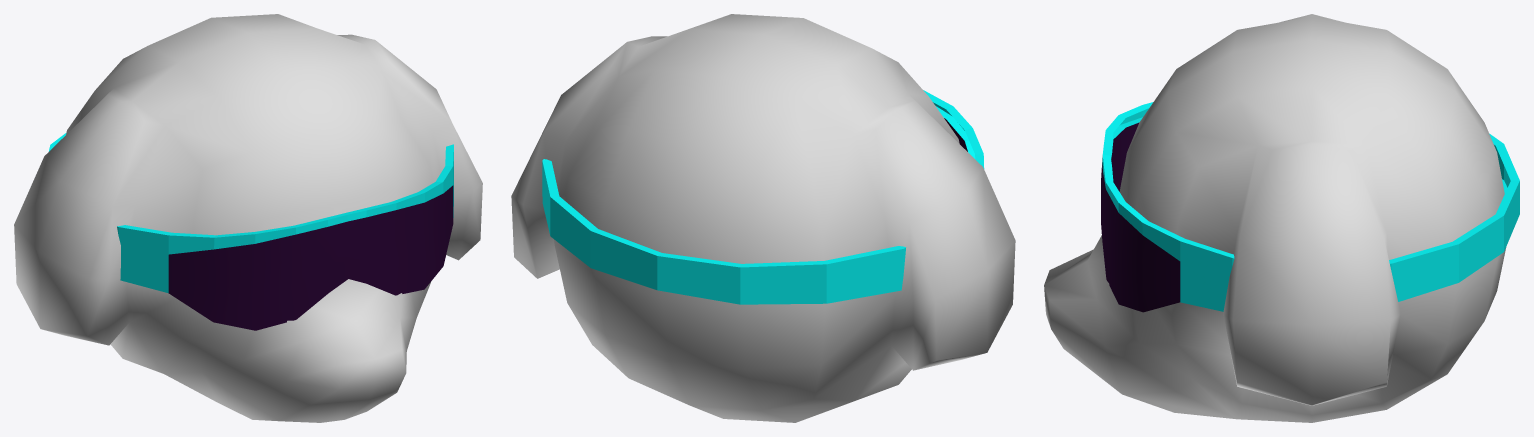
The model's file is dog_face.fbx.
3 views of the same model, side by side, from view 1: azimuth 30°, elevation 25°; view 2: azimuth 150°, elevation 25°; view 3: azimuth 270°, elevation 25° (orthographic). The views are drawn at different scales.
Parts seen in each view (by area): view 1: Dog_head, glasspart, glasses_leg; view 2: Dog_head, glasses_leg; view 3: Dog_head, glasses_leg, glasspart.
Part boxes in pixels (x1=…): Dog_head: x1=14, y1=14, x2=482, y2=422; glasspart: x1=168, y1=185, x2=453, y2=330; glasses_leg: x1=48, y1=133, x2=453, y2=293; Dog_head: x1=511, y1=14, x2=1015, y2=422; glasses_leg: x1=542, y1=90, x2=984, y2=304; Dog_head: x1=1044, y1=14, x2=1506, y2=422; glasses_leg: x1=1102, y1=102, x2=1519, y2=311; glasspart: x1=1101, y1=122, x2=1180, y2=312.
Bounding box in the file's own units: 58.22 × 45.14 × 54.49.
